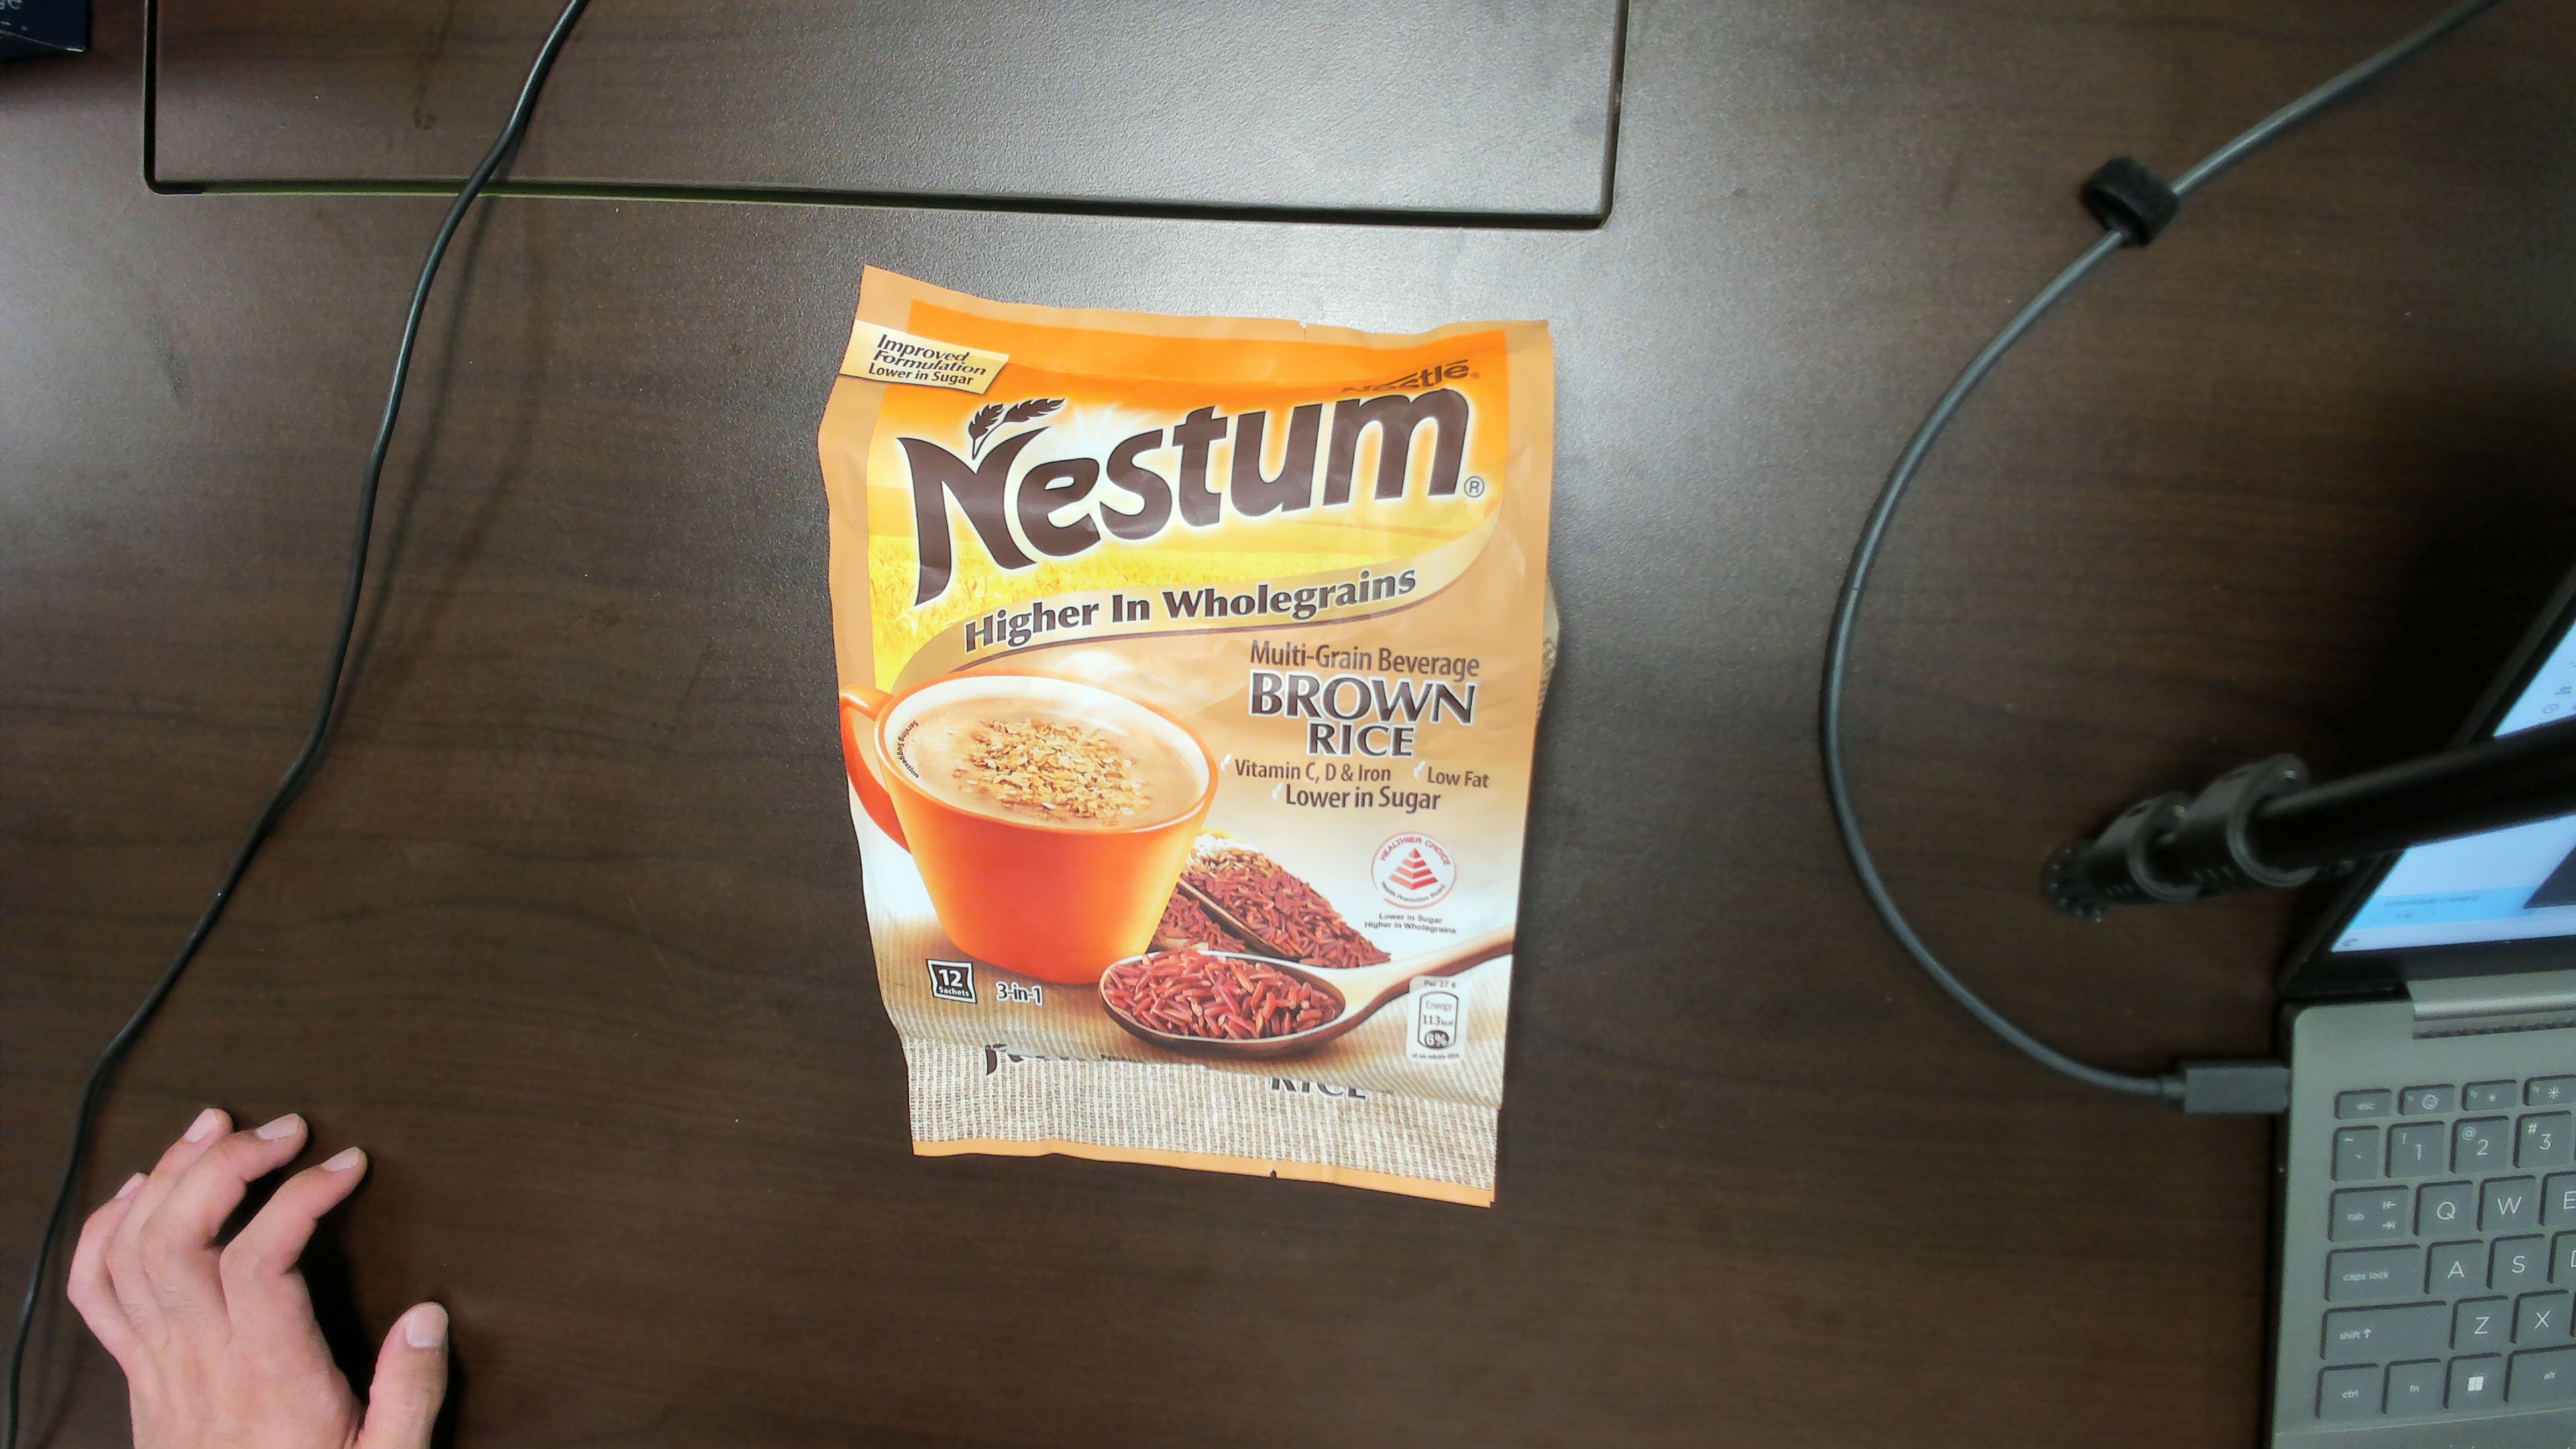CerealBeverage-powder_300-399g_NonHalal_Healthy: (897, 370, 1491, 1058)
